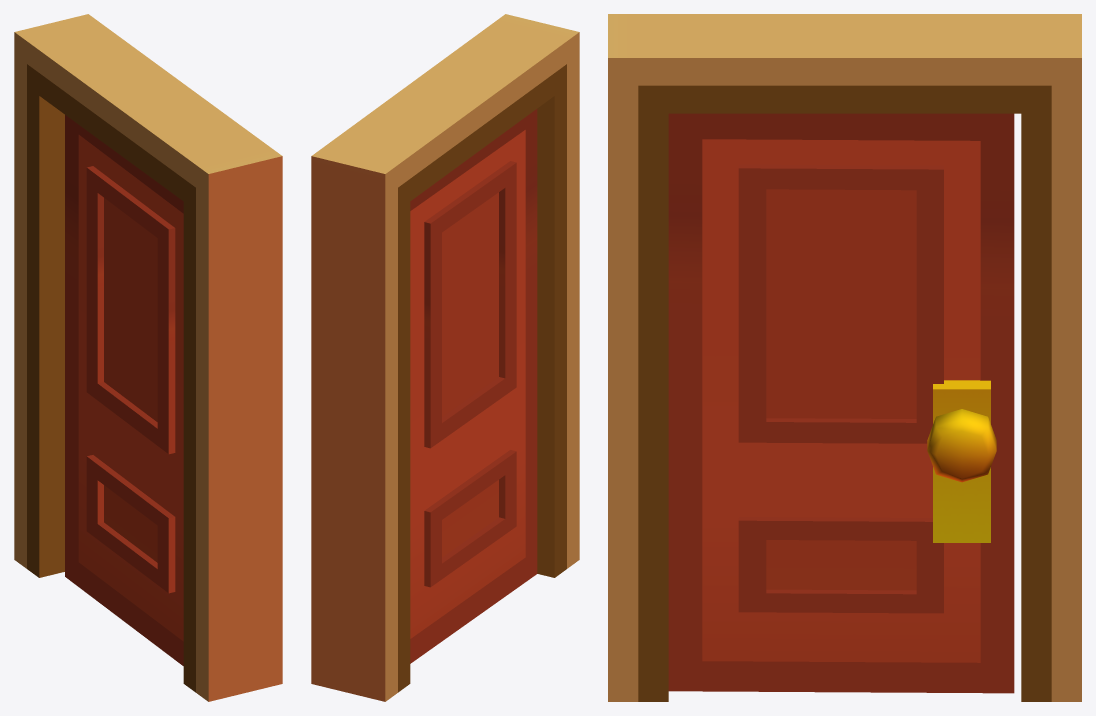
The model's file is door_01.fbx.
The picture shows the model from 3 angles, left to right: view 1: azimuth 30°, elevation 25°; view 2: azimuth 150°, elevation 25°; view 3: azimuth 270°, elevation 25°; orthographic projection. The views are drawn at different scales.
Visible parts, largest first — view 1: door_01, opening_door_01; view 2: door_01, opening_door_01; view 3: opening_door_01, door_01.
Part boxes in pixels (x1,y1,x2,y2): door_01: (14, 14, 282, 701); opening_door_01: (65, 115, 183, 665); door_01: (311, 14, 579, 701); opening_door_01: (410, 109, 537, 663); opening_door_01: (668, 113, 1014, 693); door_01: (608, 14, 1081, 701).
Size of the model in its own units: 31.39 by 150 by 100.
Materials: 1 (1 with a texture image).
